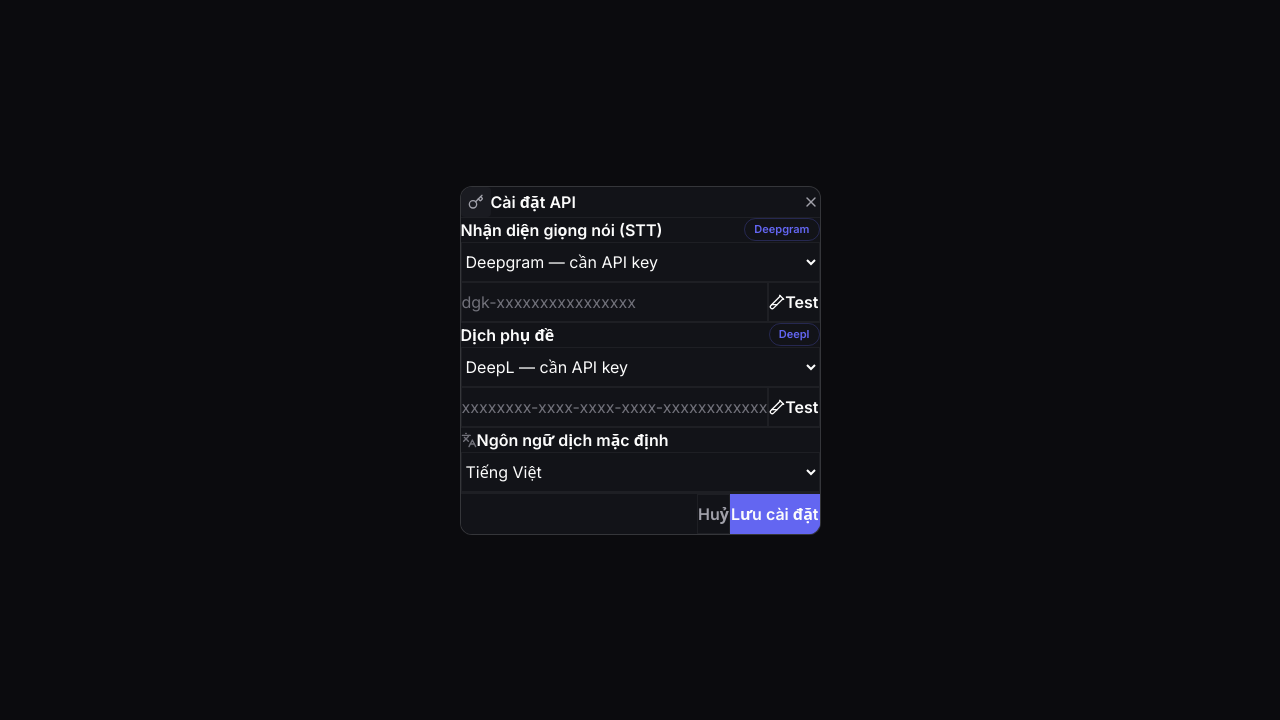
Test: SettingsModal › offers Google Translate without an API key
Select "Google Translate — miễn phí, không cần key" in the dropdown with id "translation-provider" at (640, 366), box [460, 346, 820, 386]
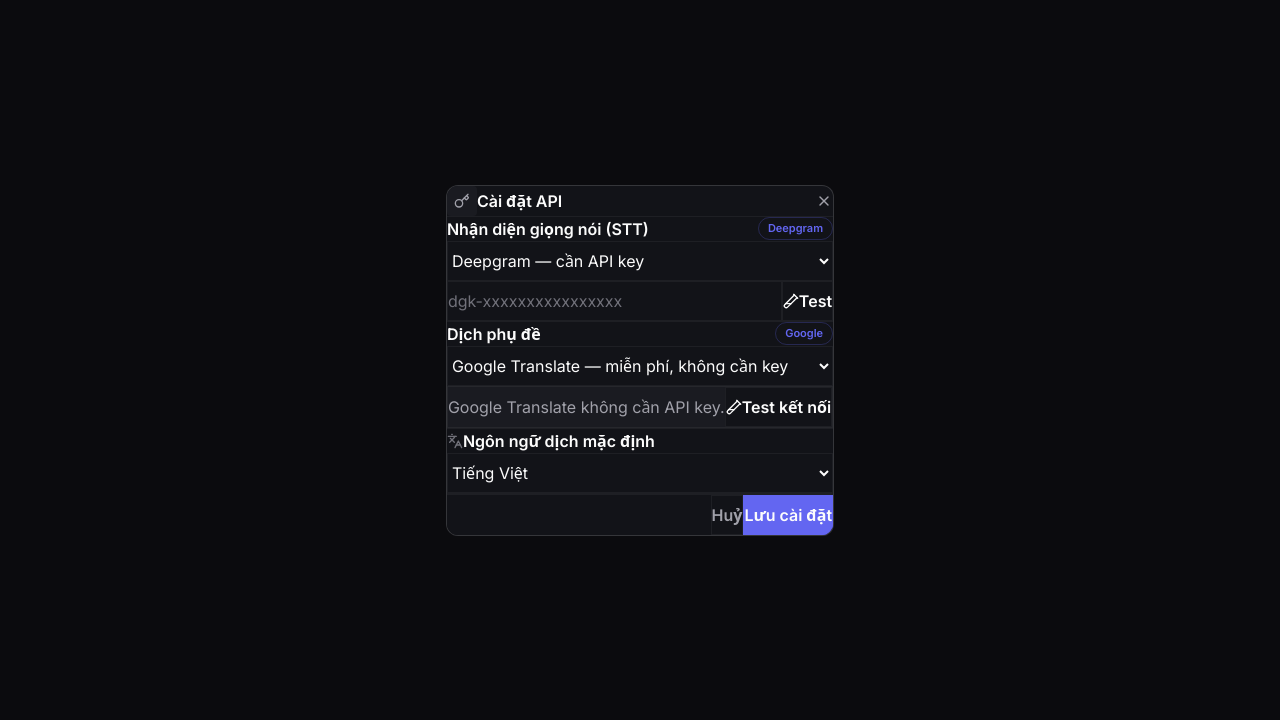
Result: the text "Google Translate không cần API key." is shown at [448, 394, 725, 418]
